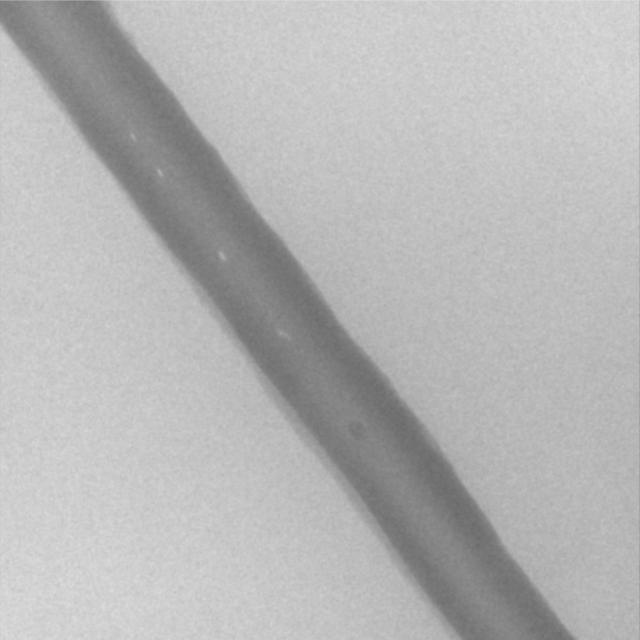air hole: (217, 249, 228, 263), (155, 165, 164, 177), (128, 131, 136, 144)
